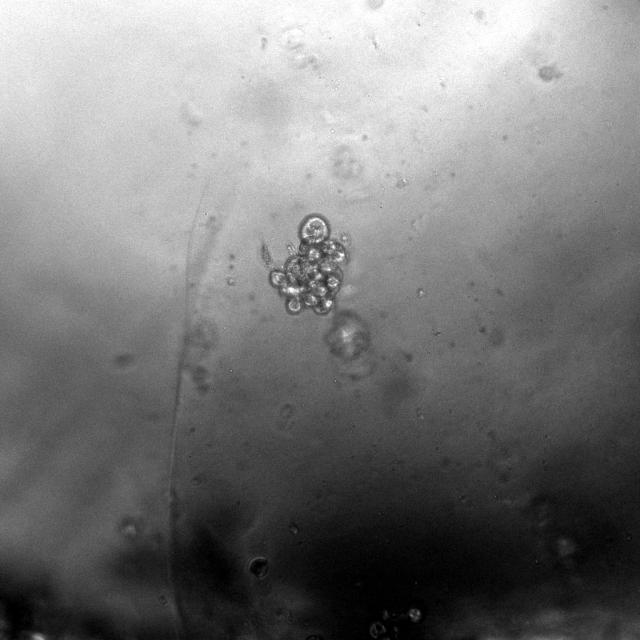organoid: (262, 214, 348, 314), (325, 311, 369, 361)
